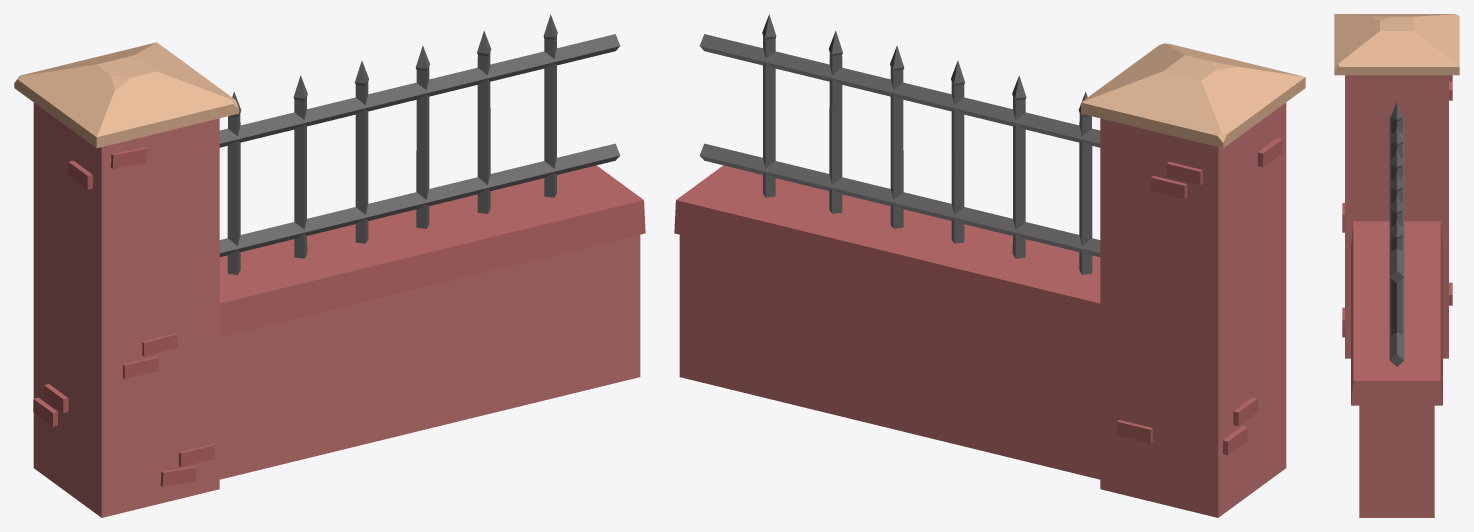
File: fence-piece.glb
The picture shows the model from 3 angles, left to right: view 1: azimuth 30°, elevation 25°; view 2: azimuth 150°, elevation 25°; view 3: azimuth 270°, elevation 25°; orthographic projection. The views are drawn at different scales.
Parts seen in each view (by area): view 1: FencePiece; view 2: FencePiece; view 3: FencePiece.
Part boxes in pixels (<box>): FencePiece: <box>14,14,645,517</box>; FencePiece: <box>674,14,1305,517</box>; FencePiece: <box>1334,14,1459,517</box>.
Bounding box in the file's own units: 1.12 × 0.7876 × 0.286.
1 material, 1 textured.
